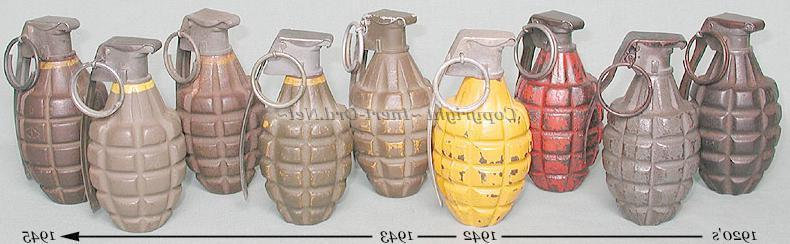Grenade: (71, 36, 189, 234), (238, 27, 353, 228), (593, 31, 698, 227), (428, 29, 531, 228), (2, 15, 106, 204), (678, 14, 782, 196), (164, 6, 263, 196), (343, 8, 435, 199), (510, 13, 605, 195)
